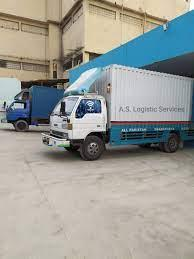truck: (41, 64, 194, 161), (4, 85, 69, 133)
